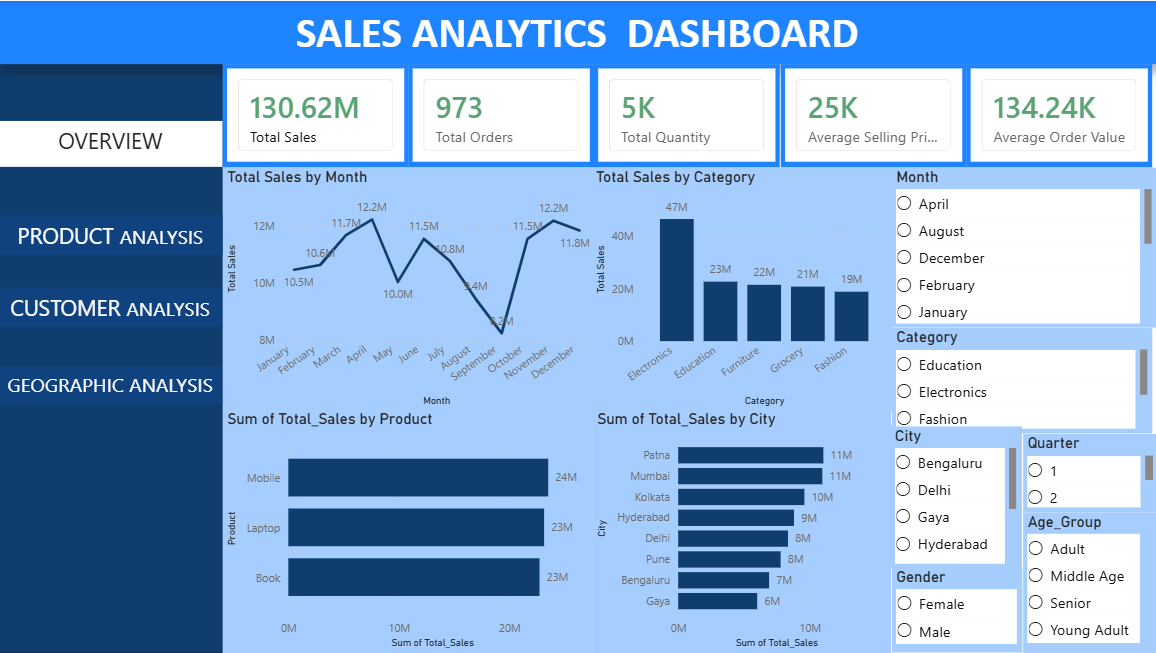

The dashboard page shown, as its layout file describes it:
{"tool":"powerbi","page":{"name":"OVERVIEW","canvas":[1280,720],"ordinal":0},"visuals":[{"type":"shape","box":[0,318.1,248,42.8],"z":0},{"type":"shape","box":[0,68.1,248,651.7],"z":500},{"type":"textbox","box":[0,0,1279.4,69.7],"z":1000},{"type":"textbox","box":[0,132.3,248,50.6],"z":3000},{"type":"textbox","box":[0,316.9,247.6,43.3],"z":4000},{"type":"textbox","box":[0,404.8,247.6,40.9],"z":5000},{"type":"cardVisual","fields":{"Data":["sales_data_cleaned.Total Sales"]},"box":[248,69.1,205.2,113.8],"z":6000},{"type":"cardVisual","fields":{"Data":["sales_data_cleaned.Total Orders"]},"box":[453.3,70,205.2,113.8],"z":7000},{"type":"cardVisual","fields":{"Data":["sales_data_cleaned.Total Quantity"]},"box":[658.5,70,205.2,113.8],"z":8000},{"type":"cardVisual","fields":{"Data":["sales_data_cleaned.Average Selling Price"]},"box":[863.7,70,205.2,113.8],"z":9000},{"type":"cardVisual","fields":{"Data":["sales_data_cleaned.Average Order Value"]},"box":[1068.9,70,205.2,113.8],"z":10000},{"type":"lineChart","fields":{"Y":["sales_data_cleaned.Total Sales"],"Category":["sales_data_cleaned.Order_Date.Variation.Date Hierarchy.Month"]},"box":[248,183.8,410.5,268.4],"z":11000},{"type":"clusteredColumnChart","fields":{"Category":["sales_data_cleaned.Category"],"Y":["sales_data_cleaned.Total Sales"]},"box":[654.6,183.8,331.7,268.4],"z":12000},{"type":"barChart","fields":{"Category":["sales_data_cleaned.Product"],"Y":["Sum(sales_data_cleaned.Total_Sales)"]},"box":[248,451.3,408.5,268.4],"z":13000},{"type":"barChart","fields":{"Y":["Sum(sales_data_cleaned.Total_Sales)"],"Category":["sales_data_cleaned.City"]},"box":[656.5,451.3,329.7,268.4],"z":14000},{"type":"listSlicer","fields":{"Values":["sales_data_cleaned.Month"]},"box":[986.3,183.8,292.8,177],"z":15000},{"type":"listSlicer","fields":{"Values":["sales_data_cleaned.Quarter"]},"box":[1131.2,477.6,148.8,86.6],"z":16000},{"type":"listSlicer","fields":{"Values":["sales_data_cleaned.Category"]},"box":[986.3,360.9,287.9,116.7],"z":17000},{"type":"listSlicer","fields":{"Values":["sales_data_cleaned.City"]},"box":[985.3,469.8,144.9,156.6],"z":18000},{"type":"listSlicer","fields":{"Values":["sales_data_cleaned.Gender"]},"box":[986.3,626.4,144,93.4],"z":19000},{"type":"listSlicer","fields":{"Values":["sales_data_cleaned.Age_Group"]},"box":[1131.2,564.1,147.8,155.6],"z":20000},{"type":"textbox","box":[0,236.4,248,43.8],"z":20001},{"type":"shape","box":[0,236.4,248,43.8],"z":20002},{"type":"shape","box":[0,318.1,248,43.8],"z":20003},{"type":"shape","box":[0,408.5,248,43.8],"z":20004}]}

Visuals, with their boxes in screenshot pixels (x1, y1, x2, y2), scaled from the page's 1280x720 canvas onto the 1156x653 screenshot:
shape: detection(0, 288, 224, 327)
shape: detection(0, 62, 224, 652)
textbox: detection(0, 0, 1155, 63)
textbox: detection(0, 120, 224, 166)
textbox: detection(0, 287, 224, 327)
textbox: detection(0, 367, 224, 404)
cardVisual - sales_data_cleaned.Total Sales: detection(224, 63, 409, 166)
cardVisual - sales_data_cleaned.Total Orders: detection(409, 63, 595, 167)
cardVisual - sales_data_cleaned.Total Quantity: detection(595, 63, 780, 167)
cardVisual - sales_data_cleaned.Average Selling Price: detection(780, 63, 965, 167)
cardVisual - sales_data_cleaned.Average Order Value: detection(965, 63, 1151, 167)
lineChart - sales_data_cleaned.Total Sales x sales_data_cleaned.Order_Date.Variation.Date Hierarchy.Month: detection(224, 167, 595, 410)
clusteredColumnChart - sales_data_cleaned.Category x sales_data_cleaned.Total Sales: detection(591, 167, 891, 410)
barChart - sales_data_cleaned.Product x Sum(sales_data_cleaned.Total_Sales): detection(224, 409, 593, 652)
barChart - Sum(sales_data_cleaned.Total_Sales) x sales_data_cleaned.City: detection(593, 409, 891, 652)
listSlicer - sales_data_cleaned.Month: detection(891, 167, 1155, 327)
listSlicer - sales_data_cleaned.Quarter: detection(1022, 433, 1155, 512)
listSlicer - sales_data_cleaned.Category: detection(891, 327, 1151, 433)
listSlicer - sales_data_cleaned.City: detection(890, 426, 1021, 568)
listSlicer - sales_data_cleaned.Gender: detection(891, 568, 1021, 652)
listSlicer - sales_data_cleaned.Age_Group: detection(1022, 512, 1155, 652)
textbox: detection(0, 214, 224, 254)
shape: detection(0, 214, 224, 254)
shape: detection(0, 288, 224, 328)
shape: detection(0, 370, 224, 410)
